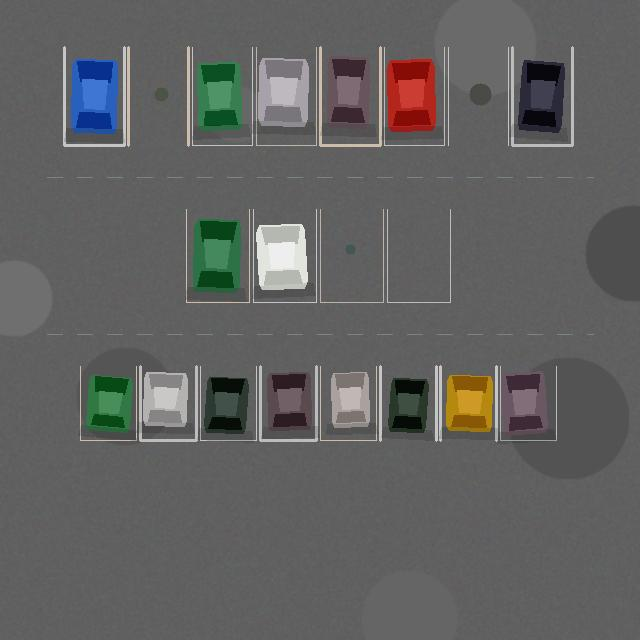space-empty: (128, 47, 188, 145), (448, 47, 508, 145), (320, 209, 383, 302), (387, 209, 450, 302)
space-occupied: (64, 47, 124, 145), (192, 47, 252, 145), (256, 47, 316, 145), (320, 47, 380, 145), (384, 47, 444, 145), (512, 47, 572, 145), (186, 209, 249, 302), (253, 209, 316, 302), (80, 366, 136, 440), (140, 366, 196, 440), (200, 366, 256, 440), (260, 366, 316, 440), (320, 366, 376, 440), (380, 366, 436, 440), (440, 366, 496, 440), (500, 366, 556, 440)
